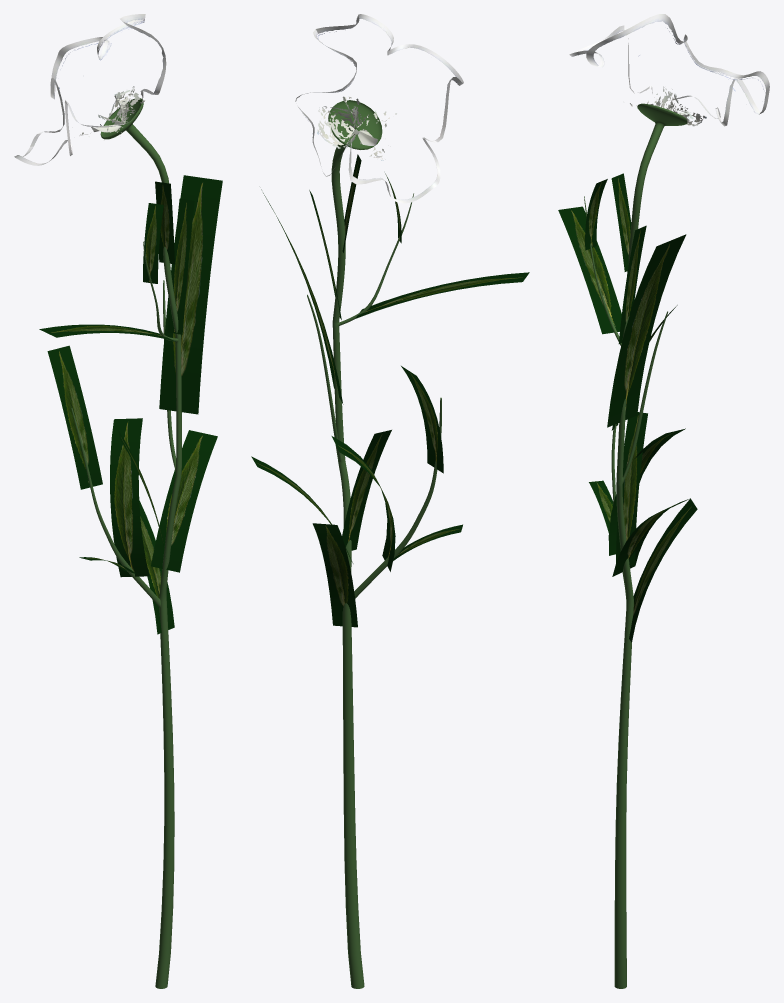
File: daisy_single_4.fbx
The picture shows the model from 3 angles, left to right: view 1: azimuth 30°, elevation 25°; view 2: azimuth 150°, elevation 25°; view 3: azimuth 270°, elevation 25°; orthographic projection. The views are drawn at different scales.
Visible parts, largest first — view 1: daisy_single_4_leaf, daisy_single_4_stem, daisy_single_4_petal; view 2: daisy_single_4_leaf, daisy_single_4_stem, daisy_single_4_petal; view 3: daisy_single_4_leaf, daisy_single_4_stem, daisy_single_4_petal.
Part boxes in pixels (x1,y1,x2,y2): daisy_single_4_leaf: (39,175,222,634); daisy_single_4_stem: (71,98,181,988); daisy_single_4_petal: (14,14,166,165); daisy_single_4_leaf: (251,154,529,627); daisy_single_4_stem: (307,100,441,988); daisy_single_4_petal: (295,14,463,203); daisy_single_4_leaf: (558,173,697,642); daisy_single_4_stem: (584,103,687,988); daisy_single_4_petal: (569,14,769,126).
Size of the model in its own units: 5.44 by 22.43 by 4.47.
Materials: 3 (2 with a texture image).
